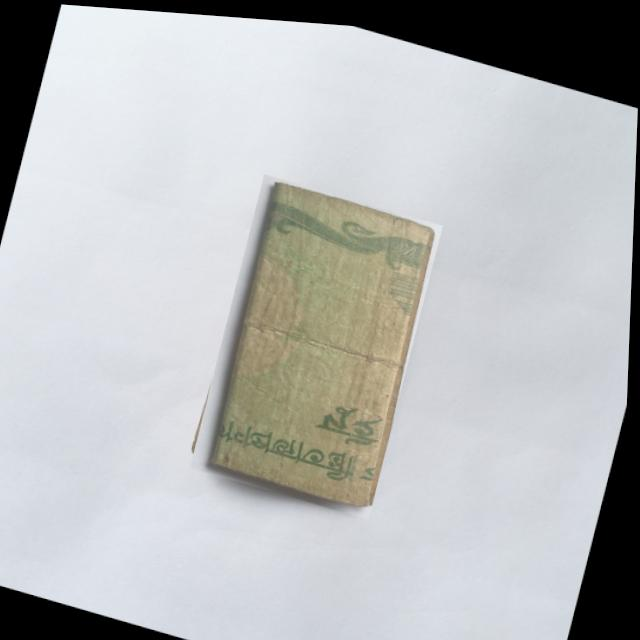Taka: (192, 165, 445, 517)
